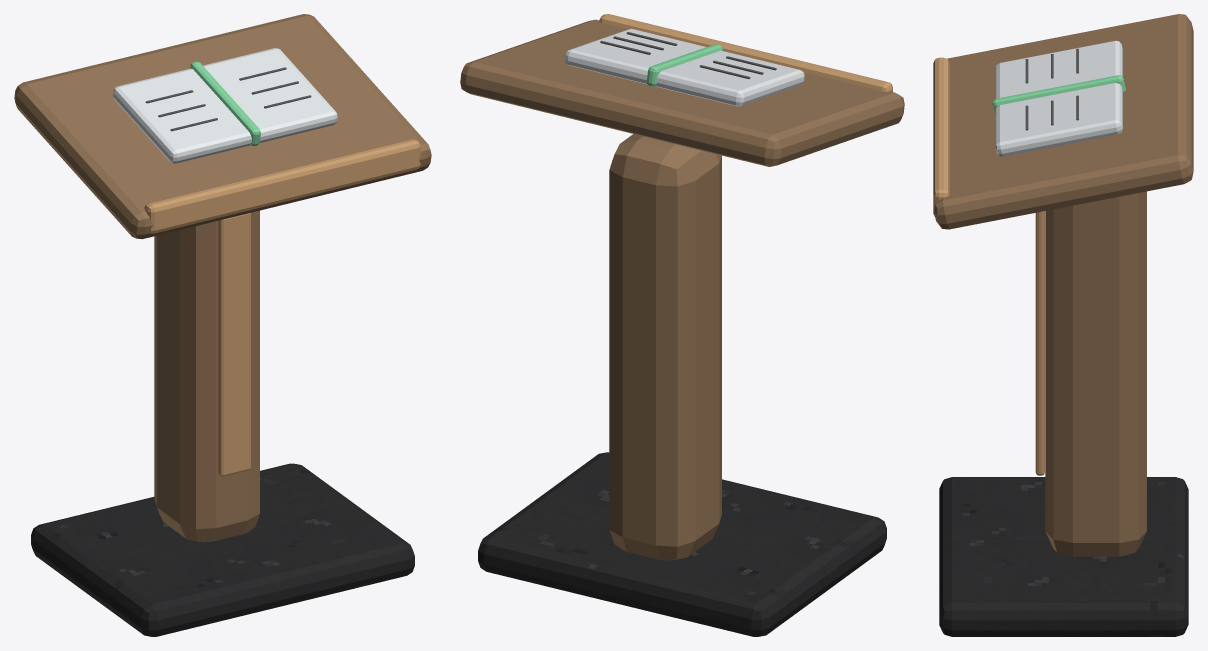
File: decor_chapel_lectern.glb
3 views of the same model, side by side, from view 1: azimuth 30°, elevation 25°; view 2: azimuth 150°, elevation 25°; view 3: azimuth 270°, elevation 25° (orthographic). The views are drawn at different scales.
Parts seen in each view (by area): view 1: DEC_ChapelLectern__Foot, DEC_ChapelLectern__Desk, DEC_ChapelLectern__Pedestal, DEC_ChapelLectern__Open_Book, DEC_ChapelLectern__Book_Stop, DEC_ChapelLectern__Front_Inlay, DEC_ChapelLectern__Book_Spine; view 2: DEC_ChapelLectern__Pedestal, DEC_ChapelLectern__Foot, DEC_ChapelLectern__Desk, DEC_ChapelLectern__Open_Book, DEC_ChapelLectern__Book_Stop, DEC_ChapelLectern__Book_Spine; view 3: DEC_ChapelLectern__Pedestal, DEC_ChapelLectern__Foot, DEC_ChapelLectern__Desk, DEC_ChapelLectern__Open_Book, DEC_ChapelLectern__Front_Inlay, DEC_ChapelLectern__Book_Stop, DEC_ChapelLectern__Book_Spine.
Part boxes in pixels (x1,y1,x2,y2): DEC_ChapelLectern__Foot: (31,463,414,636); DEC_ChapelLectern__Desk: (14,14,431,239); DEC_ChapelLectern__Pedestal: (154,210,259,541); DEC_ChapelLectern__Open_Book: (112,48,337,163); DEC_ChapelLectern__Book_Stop: (144,139,420,233); DEC_ChapelLectern__Front_Inlay: (218,213,250,476); DEC_ChapelLectern__Book_Spine: (190,61,260,145); DEC_ChapelLectern__Pedestal: (609,134,721,560); DEC_ChapelLectern__Foot: (478,452,886,636); DEC_ChapelLectern__Desk: (460,19,904,166); DEC_ChapelLectern__Open_Book: (565,29,804,106); DEC_ChapelLectern__Book_Stop: (599,14,892,91); DEC_ChapelLectern__Book_Spine: (647,44,722,86); DEC_ChapelLectern__Pedestal: (1045,191,1146,556); DEC_ChapelLectern__Foot: (939,477,1188,636); DEC_ChapelLectern__Desk: (934,14,1193,229); DEC_ChapelLectern__Open_Book: (995,40,1122,156); DEC_ChapelLectern__Front_Inlay: (1035,211,1044,475); DEC_ChapelLectern__Book_Stop: (933,57,949,217); DEC_ChapelLectern__Book_Spine: (992,75,1125,115).
Size of the model in its own units: 0.77 by 1.19 by 0.5635.
6 materials, 2 textured.
